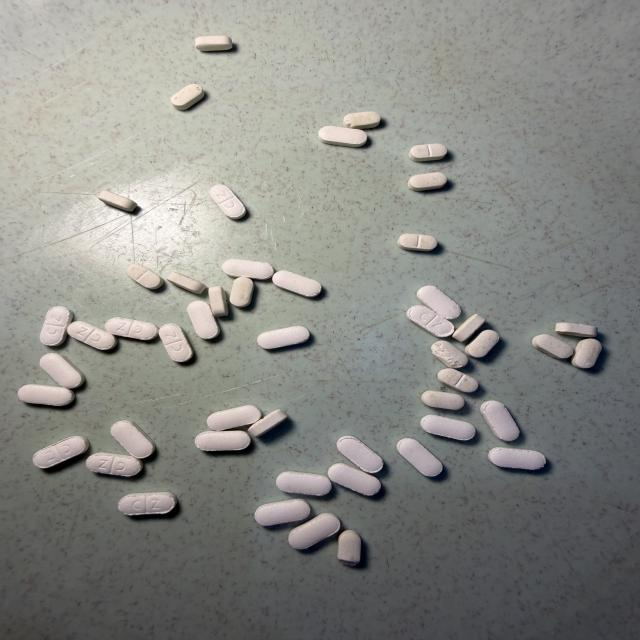pill: (289, 513, 340, 549), (33, 436, 89, 468), (328, 463, 381, 496), (397, 438, 442, 476), (337, 436, 383, 473), (111, 421, 155, 458), (40, 354, 85, 389), (481, 401, 519, 441), (255, 499, 310, 526), (407, 306, 454, 337), (68, 321, 117, 350), (417, 286, 460, 319), (207, 405, 261, 430), (421, 415, 475, 440), (276, 472, 332, 496), (119, 492, 177, 515), (86, 453, 143, 476), (159, 324, 193, 362), (40, 307, 73, 346), (210, 184, 246, 219), (489, 448, 546, 470), (273, 271, 321, 297), (257, 326, 309, 349), (188, 301, 219, 339), (18, 385, 74, 406), (105, 318, 158, 340), (195, 431, 251, 451), (222, 259, 274, 280), (318, 126, 367, 147), (248, 410, 287, 436), (532, 335, 573, 359), (432, 341, 468, 368), (126, 264, 163, 289), (452, 314, 485, 342), (438, 369, 478, 392), (465, 330, 499, 357), (171, 84, 204, 110), (572, 339, 601, 368), (338, 530, 361, 566), (98, 191, 137, 212), (421, 391, 464, 410), (167, 273, 205, 293), (229, 277, 254, 307), (408, 172, 447, 191), (398, 234, 437, 251), (409, 144, 447, 161), (208, 286, 228, 317), (344, 112, 380, 129), (195, 35, 232, 51), (555, 323, 597, 337)
